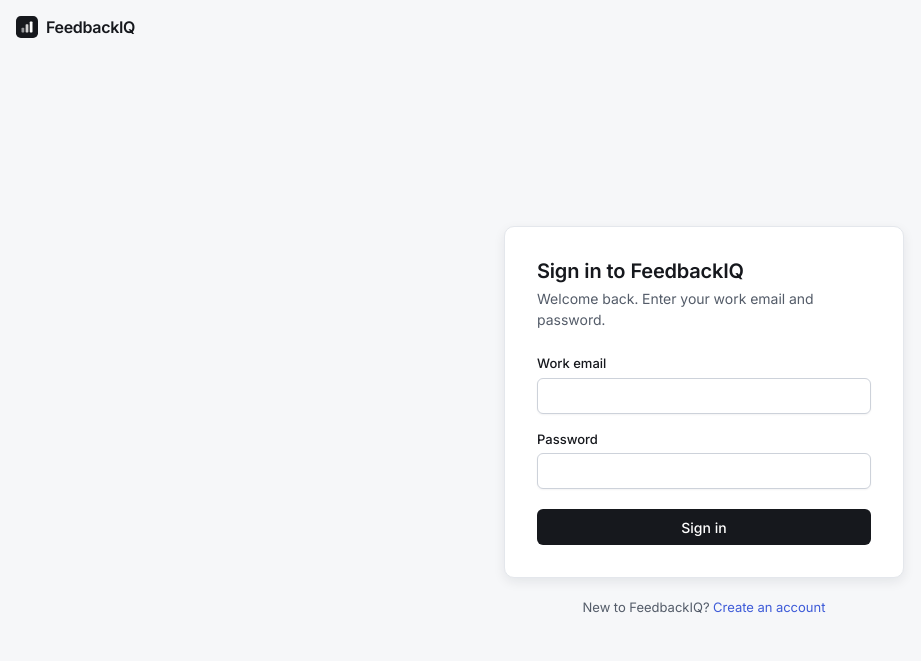
Test: signing in › shows the API's message when sign-in is refused, and stays signed out
In the field labelled "Work email": {"x": 704, "y": 396} [537, 378, 871, 414], type "ana@acme.example"
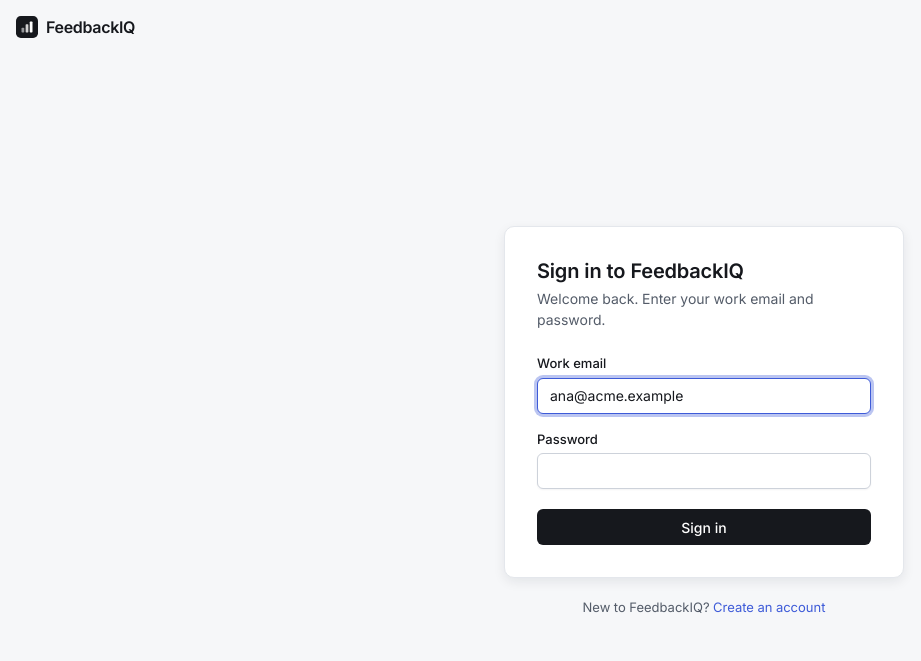
In the password field labelled "Password": {"x": 704, "y": 471} [537, 453, 871, 489], type "not the password"
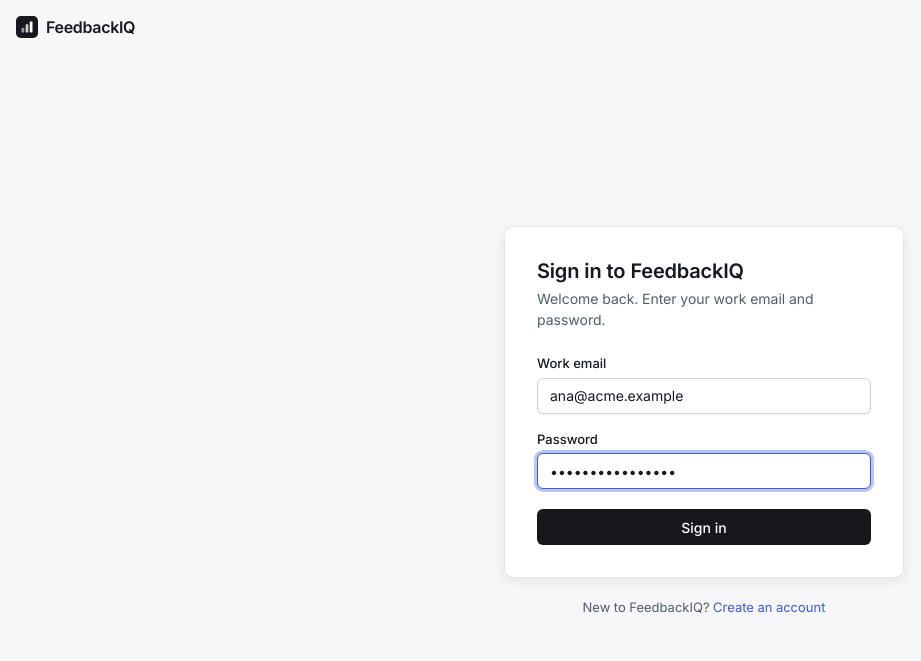
Click the button "Sign in": {"x": 704, "y": 527} [537, 509, 871, 545]
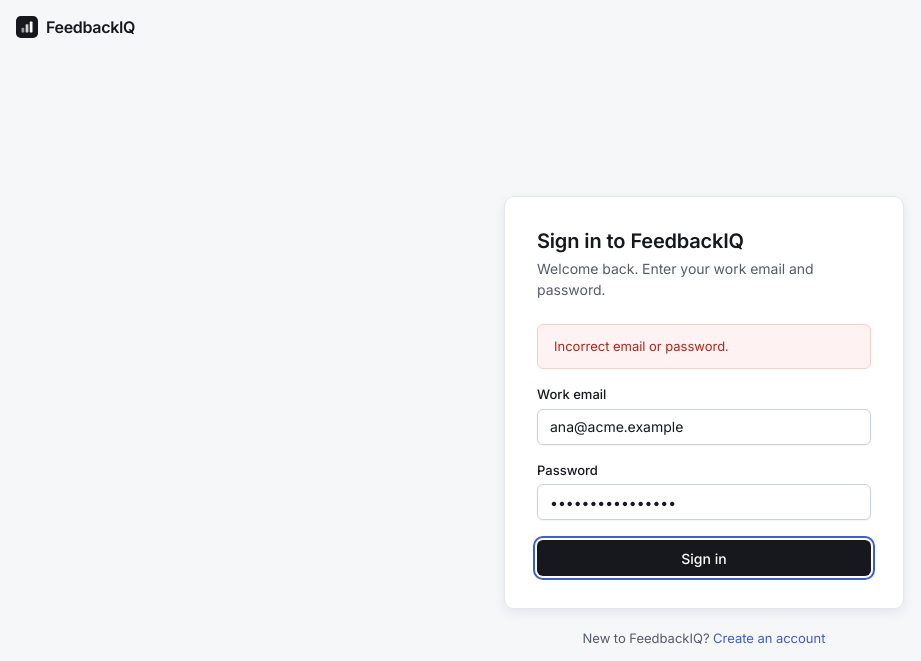
Expected: the message reads "Incorrect email or password.", [554, 338, 729, 354]
